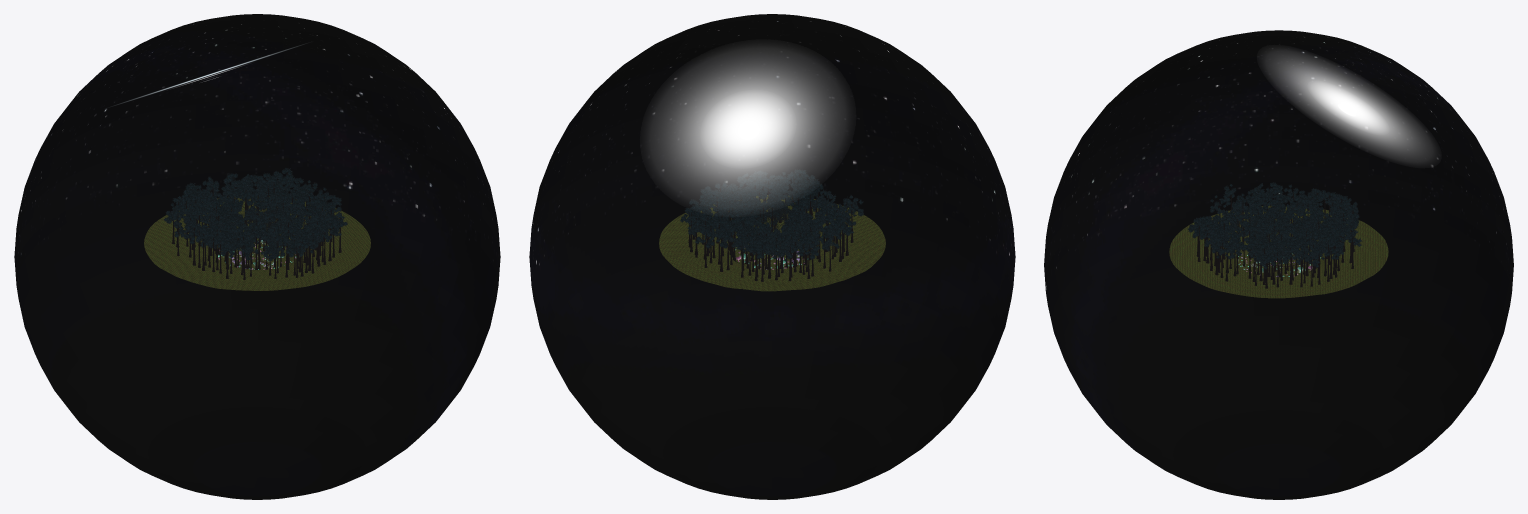
File: forest_v2.glb
3 views of the same model, side by side, from view 1: azimuth 30°, elevation 25°; view 2: azimuth 150°, elevation 25°; view 3: azimuth 270°, elevation 25° (orthographic). The views are drawn at different scales.
Visible parts, largest first — view 1: G_SkyDome, Trees, Ground; view 2: G_SkyDome, G_MoonGlow_Sky, Trees, Ground; view 3: G_SkyDome, Trees, G_MoonGlow_Sky, Ground.
Part boxes in pixels (box(x1,y1,x2,y2)): G_SkyDome: box(14, 14, 500, 499); Trees: box(163, 167, 347, 279); Ground: box(144, 196, 370, 290); G_SkyDome: box(529, 14, 1015, 499); G_MoonGlow_Sky: box(654, 51, 841, 205); Trees: box(680, 169, 863, 281); Ground: box(659, 195, 885, 291); G_SkyDome: box(1044, 30, 1513, 499); Trees: box(1188, 182, 1361, 288); G_MoonGlow_Sky: box(1269, 53, 1429, 159); Ground: box(1169, 205, 1388, 298).
Size of the model in its own units: 300 by 300 by 300.
36 materials, 31 textured.
